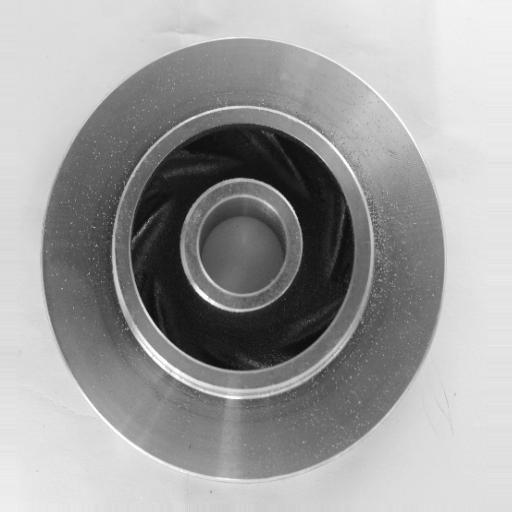polished_casting: (38, 35, 446, 483)
